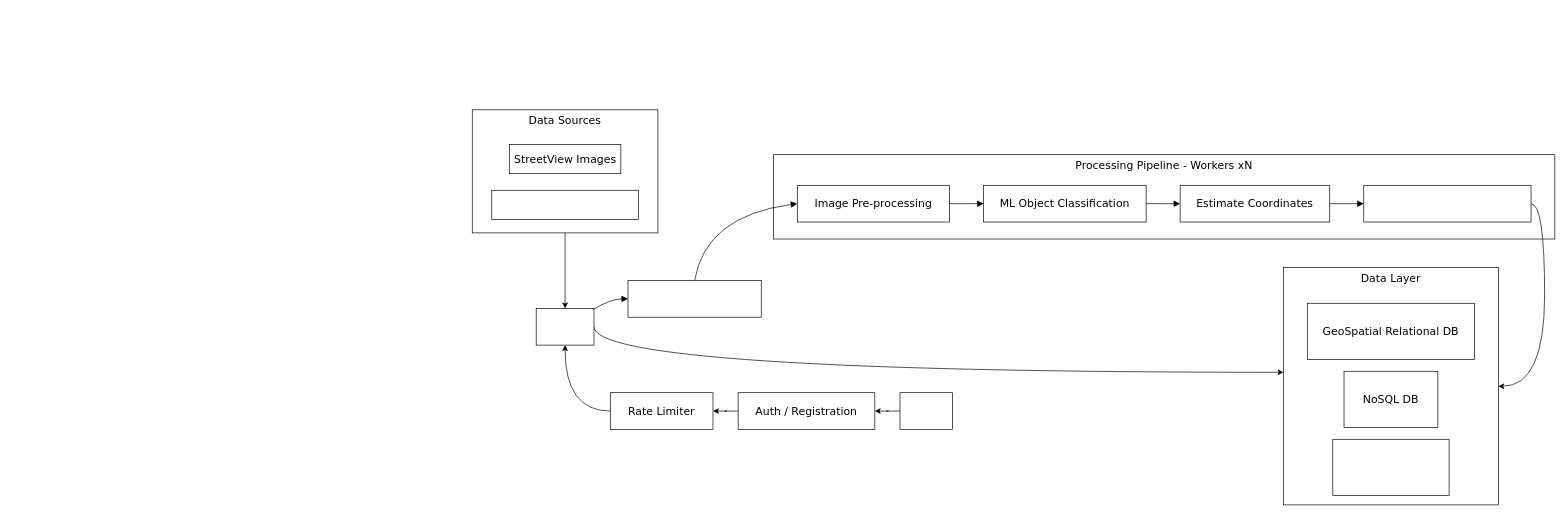
Some shapes in this 1567 by 517 pixel diagram are drawn without their labels. Here are the shapes that lost their labels. From the top down, the centre of each, then its label:
At (564,204): "On Location Photos/Videos".
At (1447,203): "Dedup / Cluster Merging".
At (694,298): "Processing Queue".
At (565,326): "API".
At (925,410): "UI".
At (1390,467): "Object Storage".
